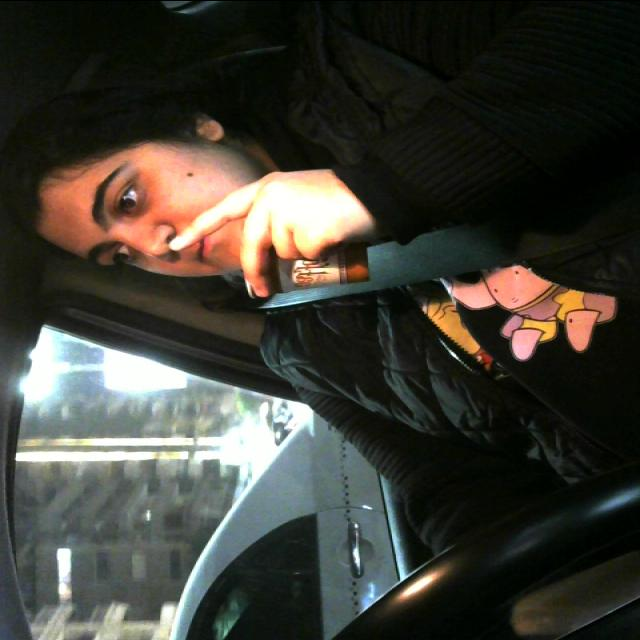drinking: (244, 220, 384, 304)
